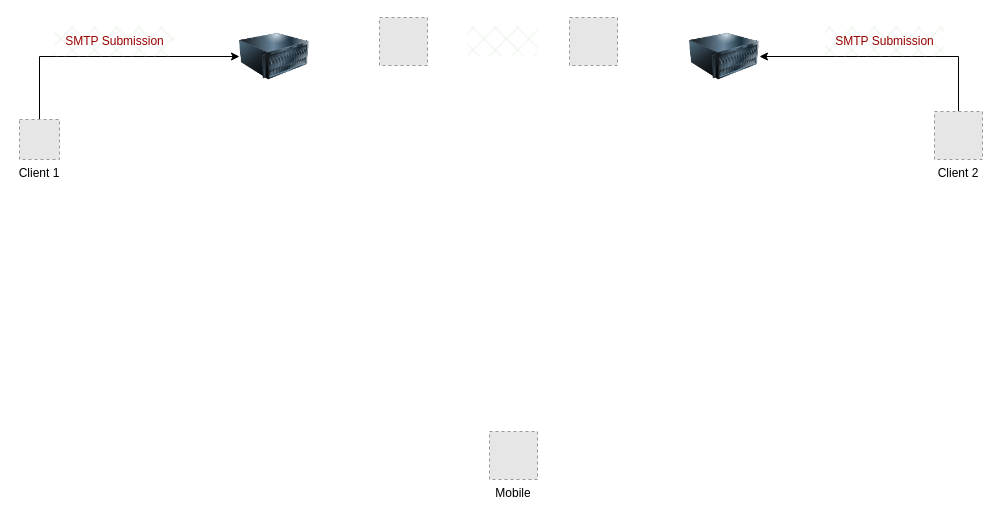
This 1000x518 diagram has some shape labels left out. Grey dashed boxes stand in for pictures. Here are the shapes that lost their labels. From the top down, the box of each, then its label:
(239, 21, 309, 91): Mail Server 1
(467, 26, 537, 56): SMTP
(689, 21, 759, 91): Mail Server 2
